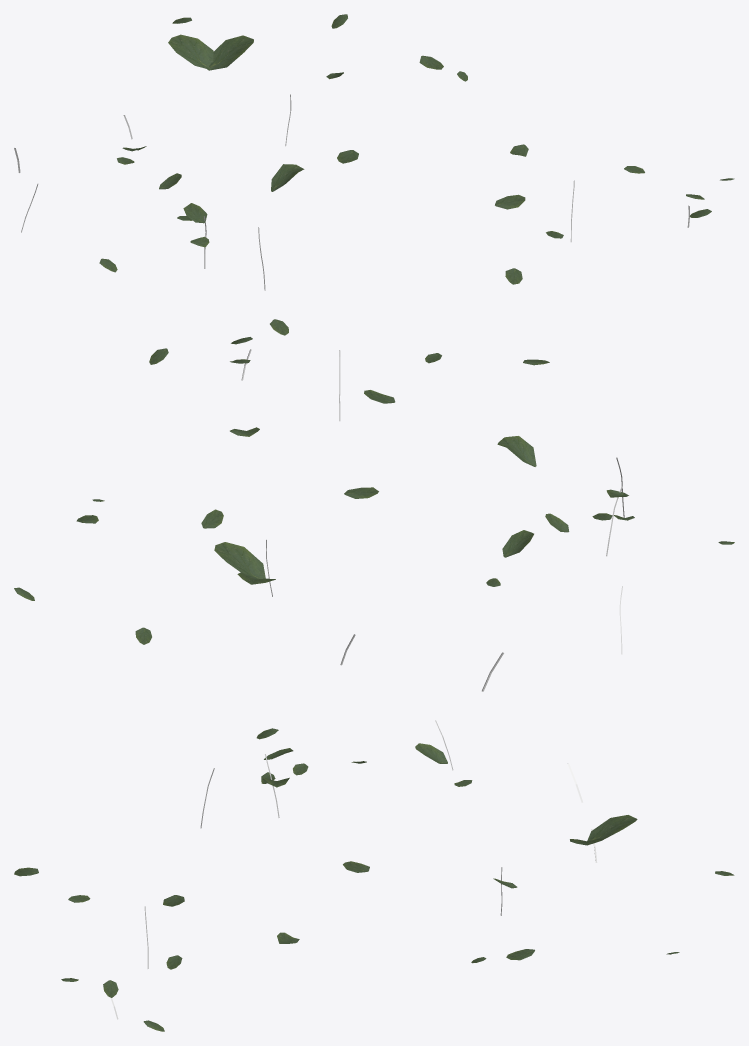
Rendered from clovers_01_lod1.gltf.
3 renders of one model, top to bottom at view 1: azimuth 30°, elevation 25°; view 2: azimuth 150°, elevation 25°; view 3: azimuth 270°, elevation 25°, orthographic. The views are drawn at different scales.
Visible parts, largest first — view 1: Clovers 01; view 2: Clovers 01; view 3: Clovers 01.
Boxes of the visible parts, x1,y1,x2,y2 form: Clovers 01: (14,14,734,290); Clovers 01: (14,319,734,691); Clovers 01: (14,720,734,1031).
Size of the model in its own units: 0.3733 by 0.0526 by 0.3958.
Materials: 2 (1 with a texture image).
